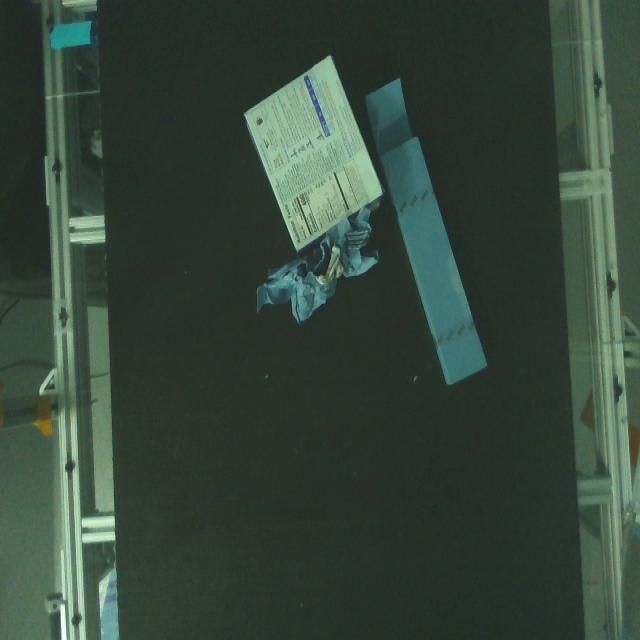paper: (360, 81, 495, 392), (240, 52, 388, 264), (250, 206, 381, 346)
